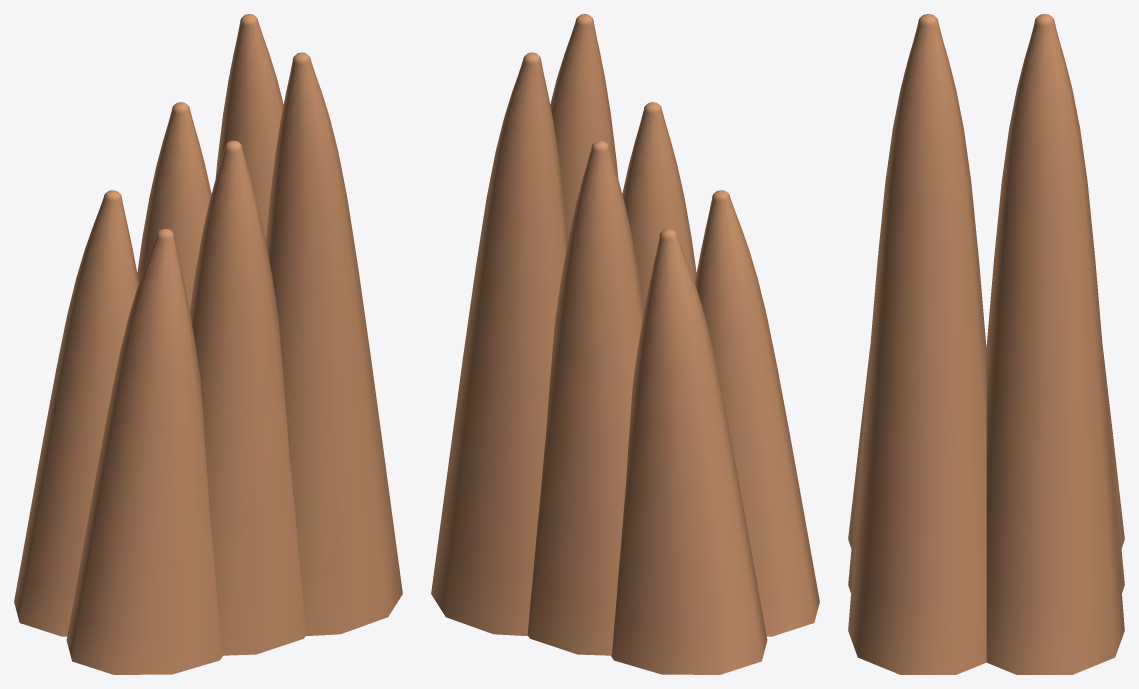
Rendered from outback-and-australian-wildlife-cathedral-termite-moun-38fc3852__5931.glb.
The picture shows the model from 3 angles, left to right: view 1: azimuth 30°, elevation 25°; view 2: azimuth 150°, elevation 25°; view 3: azimuth 270°, elevation 25°; orthographic projection. The views are drawn at different scales.
Visible parts, largest first — view 1: cathedral-termite-mound; view 2: cathedral-termite-mound; view 3: cathedral-termite-mound.
Boxes of the visible parts, bbox=[...] form: cathedral-termite-mound: bbox=[14, 14, 402, 674]; cathedral-termite-mound: bbox=[431, 14, 819, 674]; cathedral-termite-mound: bbox=[848, 14, 1124, 674].
Size of the model in its own units: 1.4 by 2.34 by 0.9516.
